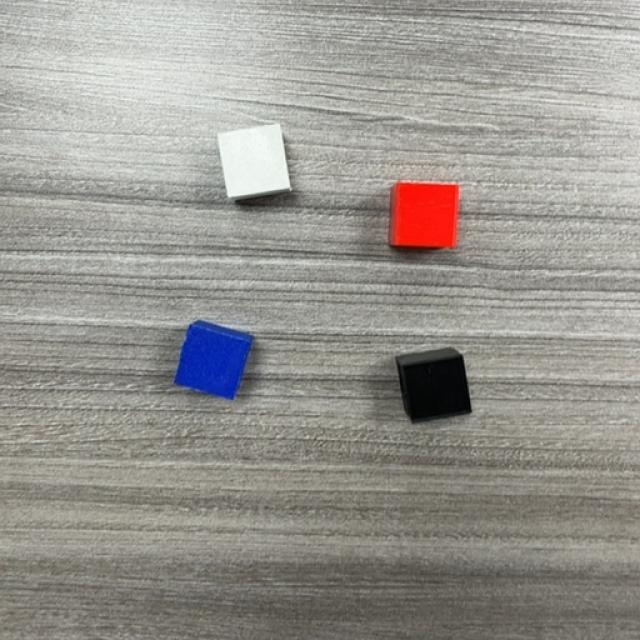Azul: (174, 325, 251, 402)
Blanco: (219, 124, 294, 201)
Negro: (402, 355, 475, 428)
Rojo: (388, 182, 460, 252)
